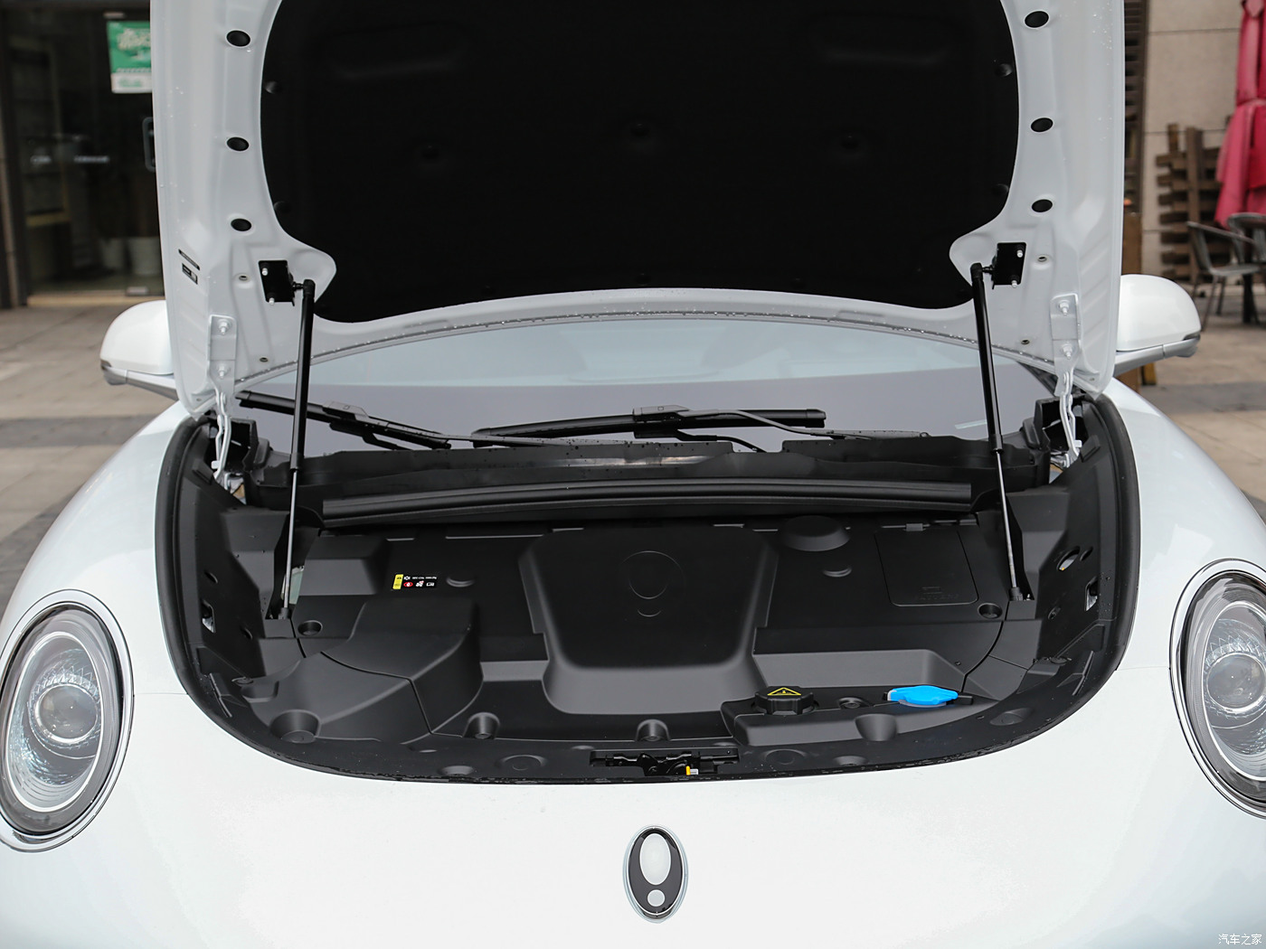ORA: (628, 827, 685, 919)
